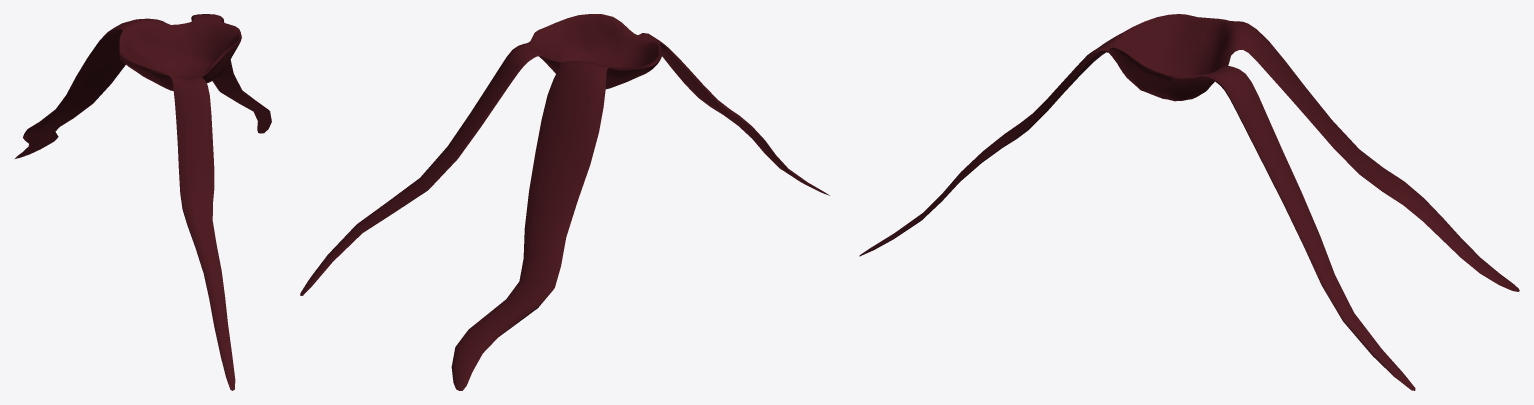
The model's file is Lava.dae.
3 views of the same model, side by side, from view 1: azimuth 30°, elevation 25°; view 2: azimuth 150°, elevation 25°; view 3: azimuth 270°, elevation 25° (orthographic). The views are drawn at different scales.
Parts seen in each view (by area): view 1: Lava; view 2: Lava; view 3: Lava.
Part boxes in pixels (box(x1,y1,x2,y2)): Lava: box(15, 14, 271, 390); Lava: box(300, 14, 829, 390); Lava: box(859, 14, 1519, 390).
Size of the model in its own units: 4.75 by 8.66 by 3.87.
